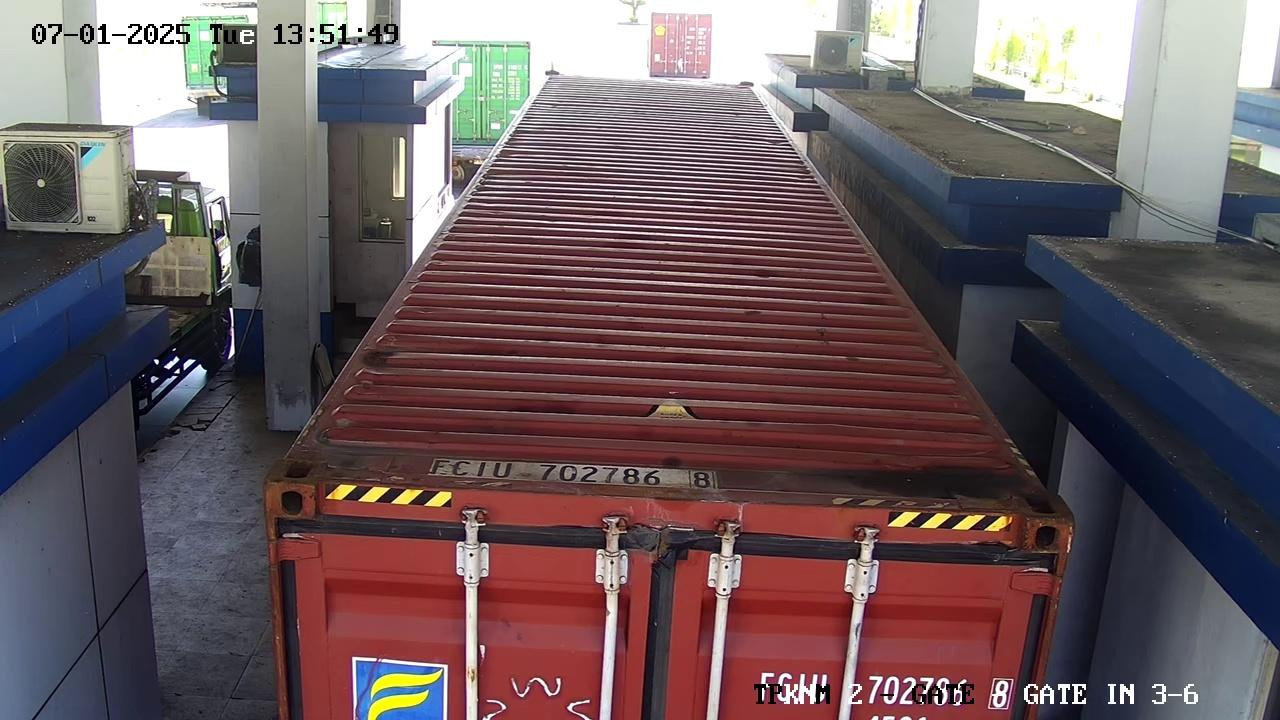Container_ID: (403, 445, 730, 510)
